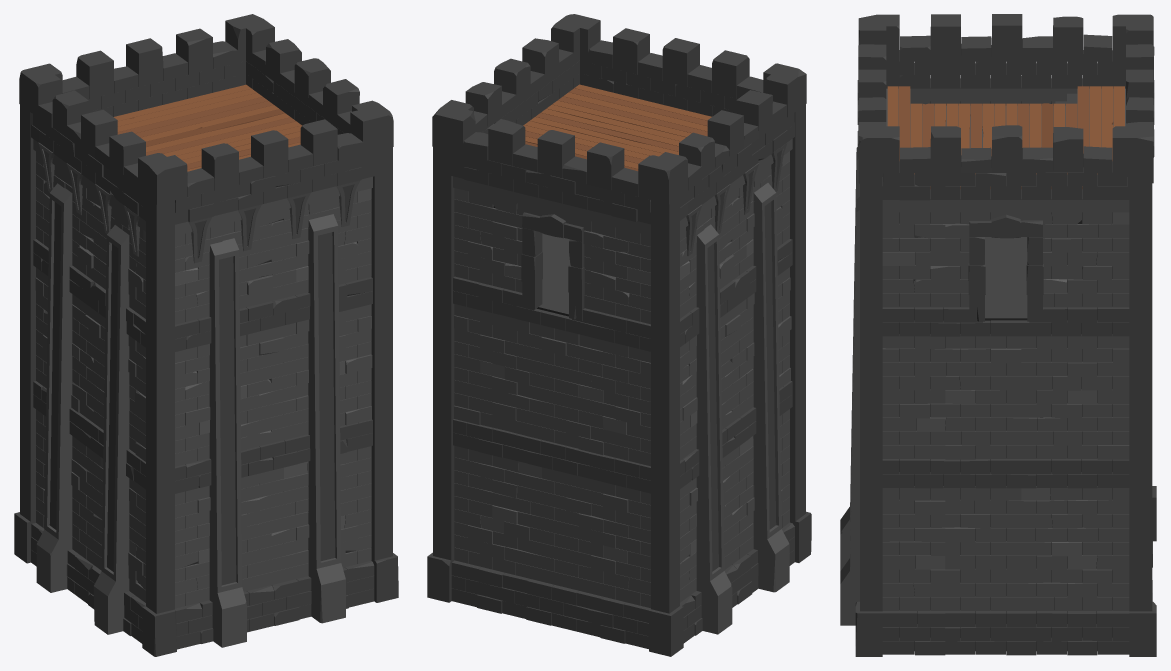
The model's file is Wall_03.glb.
The picture shows the model from 3 angles, left to right: view 1: azimuth 30°, elevation 25°; view 2: azimuth 150°, elevation 25°; view 3: azimuth 270°, elevation 25°; orthographic projection. The views are drawn at different scales.
Visible parts, largest first — view 1: Wall_03_LOD0; view 2: Wall_03_LOD0; view 3: Wall_03_LOD0.
Part boxes in pixels (x1,y1,x2,y2): Wall_03_LOD0: (14,14,398,656); Wall_03_LOD0: (427,14,811,656); Wall_03_LOD0: (840,14,1156,656).
Size of what is drawn, in the model's own units: 6.93 by 12.52 by 6.93.
1 material, 1 textured.
